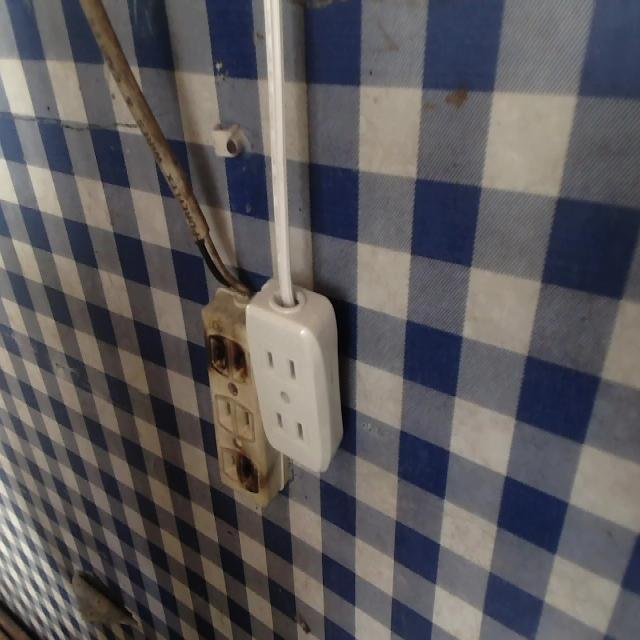-: (204, 329, 252, 383), (234, 453, 264, 498)
